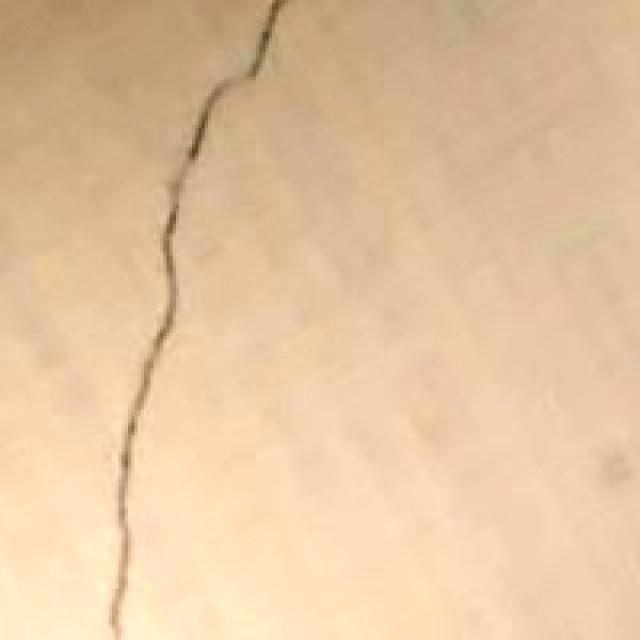crack: (86, 0, 304, 640)
